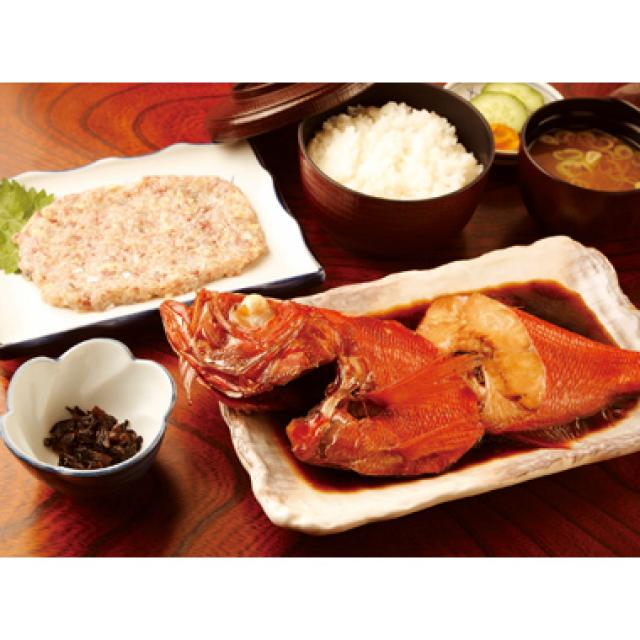熟制海鲜: (143, 263, 640, 500)
